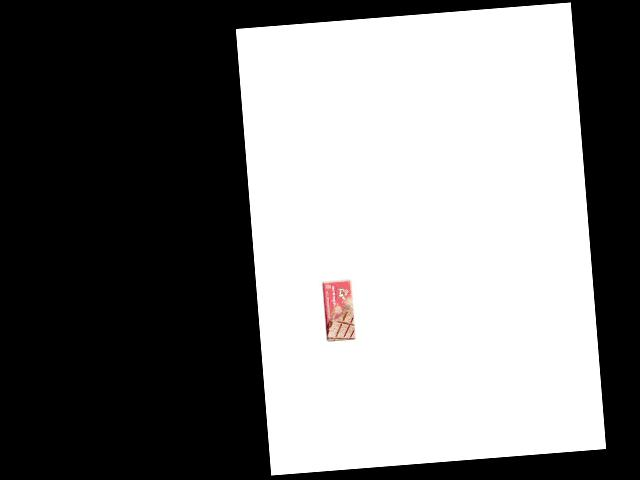chocolate: (321, 278, 357, 343)
